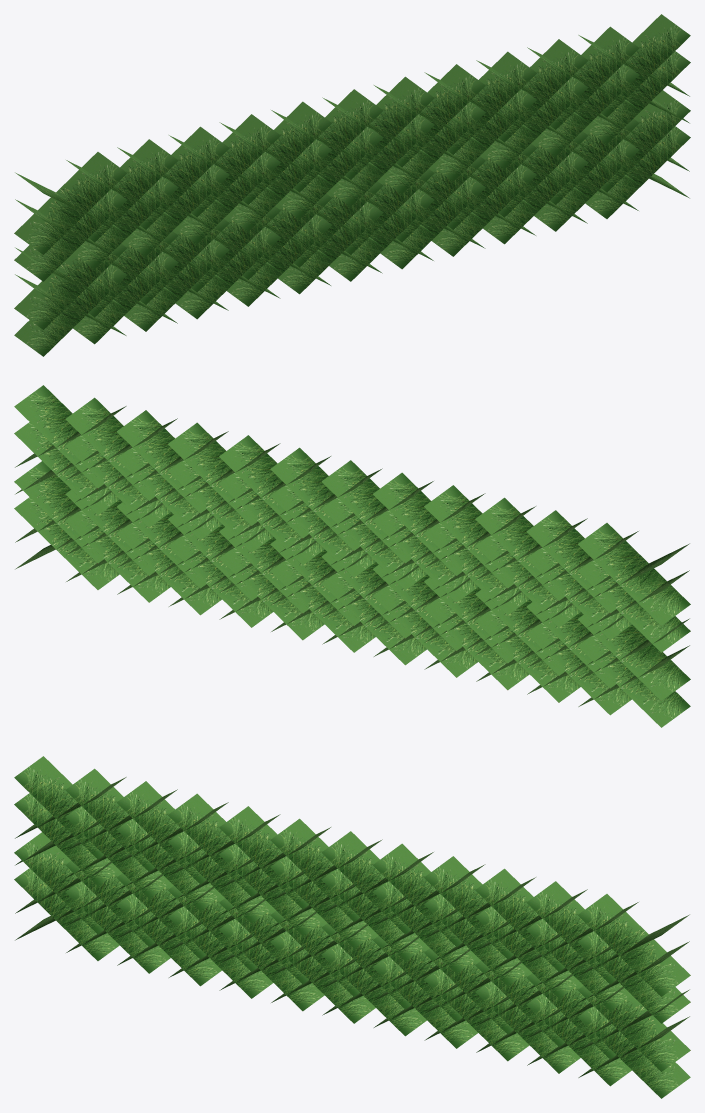
File: grass2.FBX
3 renders of one model, top to bottom at view 1: azimuth 30°, elevation 25°; view 2: azimuth 150°, elevation 25°; view 3: azimuth 330°, elevation 25°, orthographic.
Parts seen in each view (by area): view 1: grass2; view 2: grass2; view 3: grass2.
Part boxes in pixels (bbox=[...]): grass2: bbox=[14, 14, 690, 356]; grass2: bbox=[14, 385, 690, 727]; grass2: bbox=[14, 756, 690, 1098].
Size of the model in its own units: 253 by 20 by 60.94.
